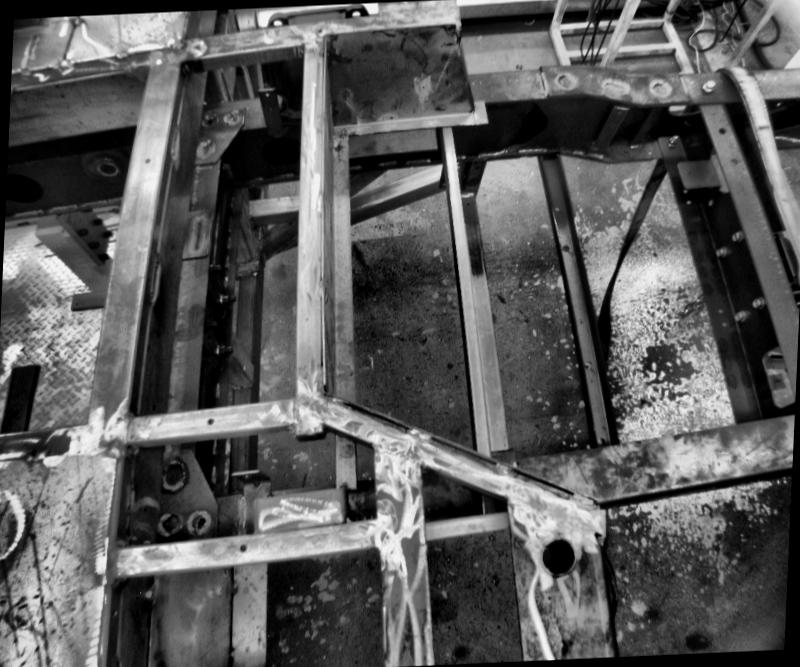bolt: (700, 78, 716, 96), (218, 291, 238, 305), (209, 258, 225, 274), (748, 294, 764, 310), (215, 342, 235, 354), (666, 132, 682, 146), (714, 246, 728, 260), (732, 310, 744, 322), (732, 232, 742, 244)
bracket: (0, 359, 41, 432), (670, 150, 720, 205), (754, 343, 794, 410), (256, 84, 292, 140), (68, 286, 112, 312)
hole: (540, 534, 578, 574), (6, 170, 44, 206), (98, 158, 123, 176), (12, 408, 24, 419), (236, 542, 248, 552), (586, 358, 594, 370), (599, 434, 607, 444), (208, 416, 216, 424), (144, 156, 152, 164), (198, 516, 206, 524), (563, 243, 571, 251), (720, 321, 728, 329), (719, 126, 727, 132), (555, 204, 563, 210), (715, 308, 721, 314), (266, 93, 272, 97), (466, 202, 469, 206)
